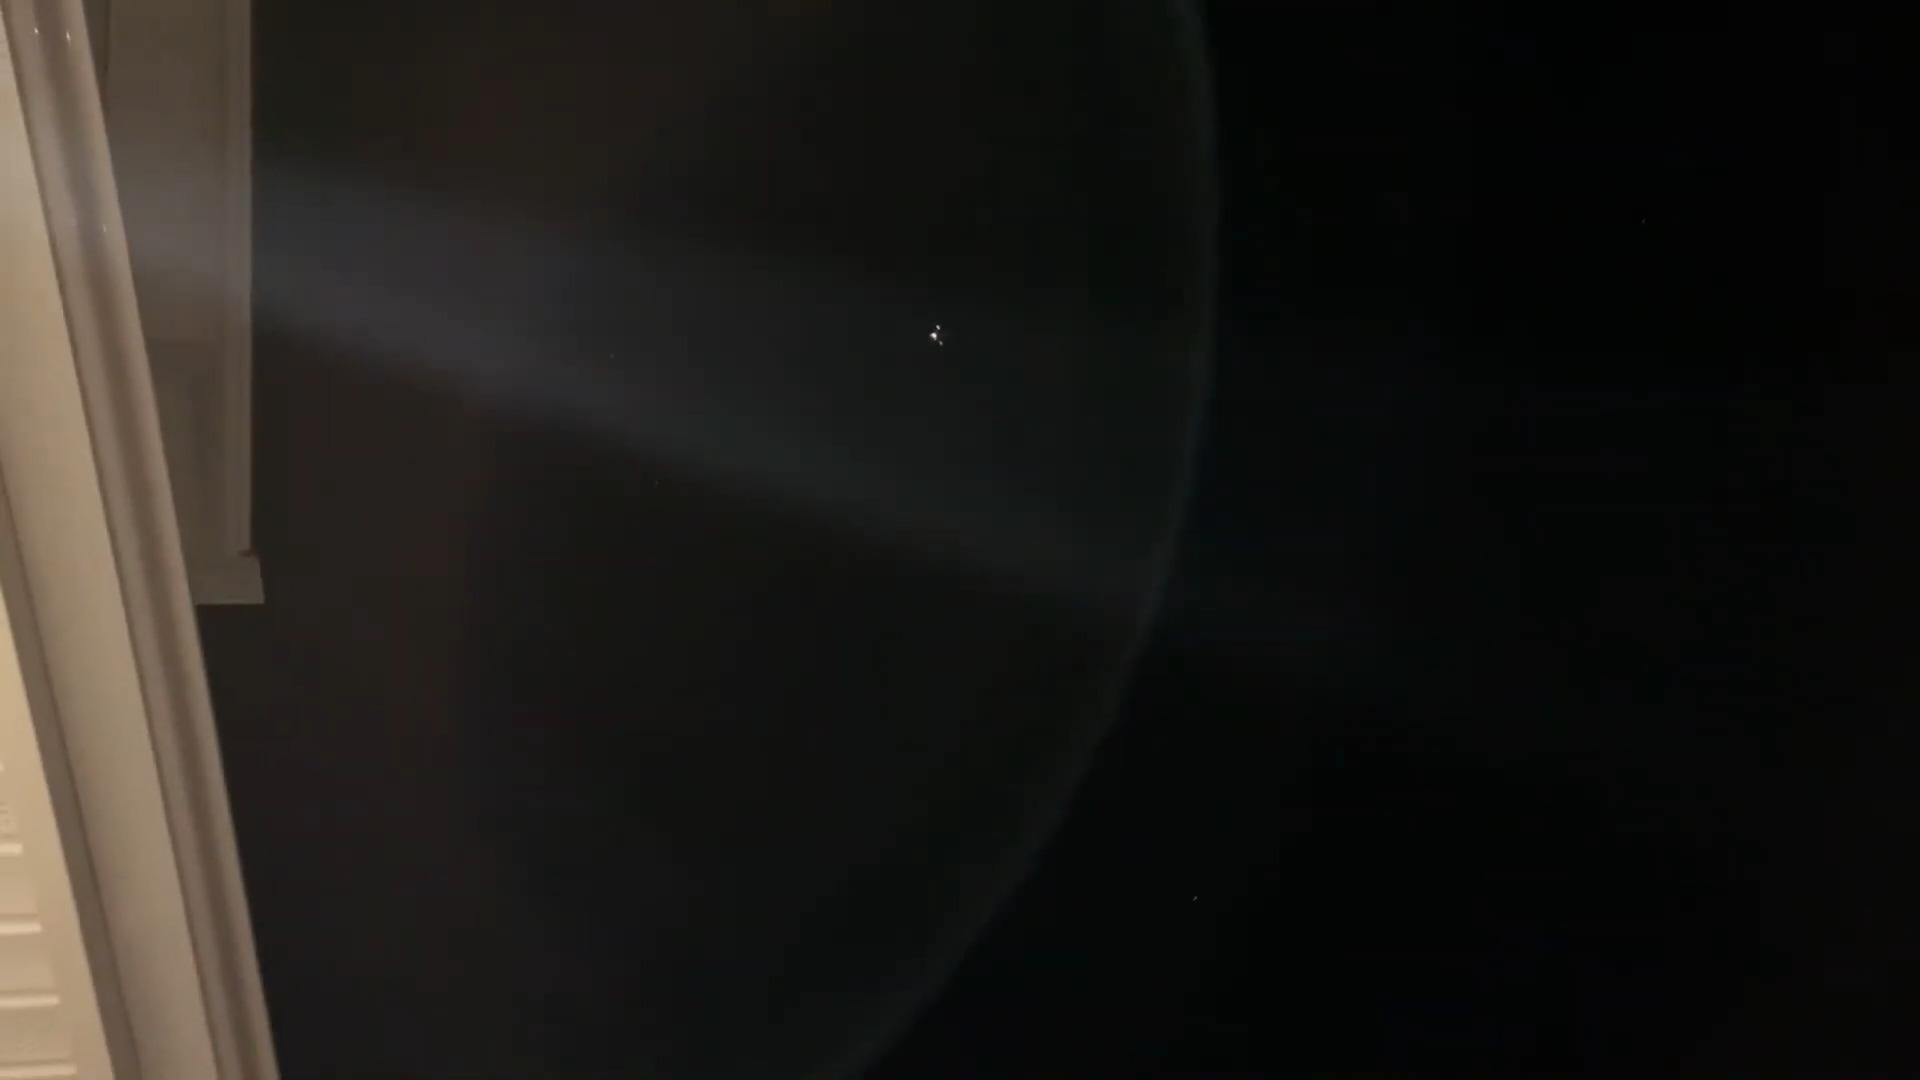Plane: (909, 311, 965, 361)
